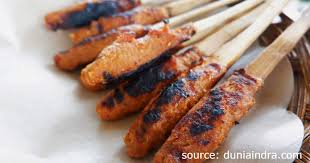sate: (37, 1, 258, 160)
